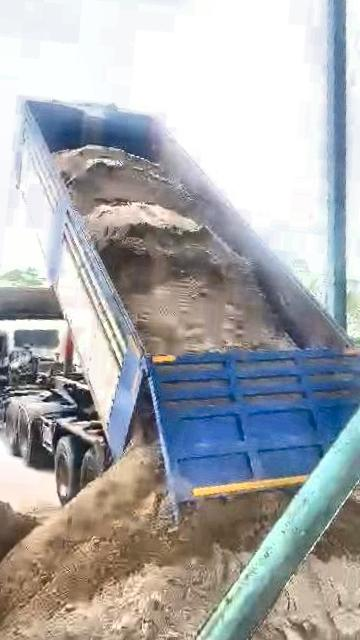sand: (0, 385, 287, 640), (56, 146, 293, 354), (222, 498, 359, 640), (0, 472, 58, 600)
